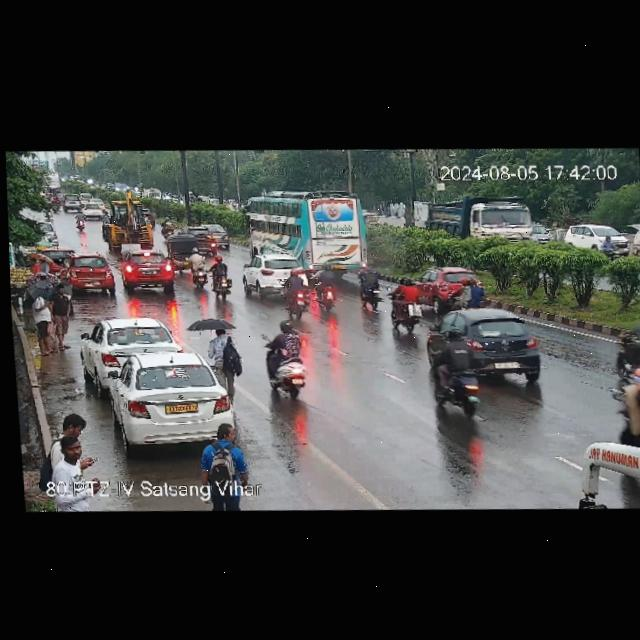bus: (240, 183, 375, 276), (568, 407, 640, 511)
car: (105, 349, 235, 448), (414, 302, 544, 384), (81, 314, 181, 379), (243, 250, 307, 293), (121, 250, 179, 294), (566, 216, 623, 254), (63, 254, 113, 292), (421, 262, 460, 307), (35, 245, 78, 277), (169, 233, 204, 265), (192, 223, 233, 249), (77, 202, 109, 219)
motorcycle: (256, 314, 310, 402), (427, 322, 483, 406), (355, 261, 418, 309), (387, 277, 431, 334), (606, 321, 640, 387), (188, 247, 232, 291), (314, 264, 339, 315), (449, 280, 488, 312), (287, 265, 309, 314), (593, 235, 622, 260), (173, 250, 189, 274), (74, 211, 90, 232), (161, 214, 176, 234)
person: (23, 274, 73, 348), (201, 420, 251, 482), (50, 412, 93, 469), (207, 329, 241, 389)
truck: (422, 192, 537, 243), (101, 197, 156, 252)
